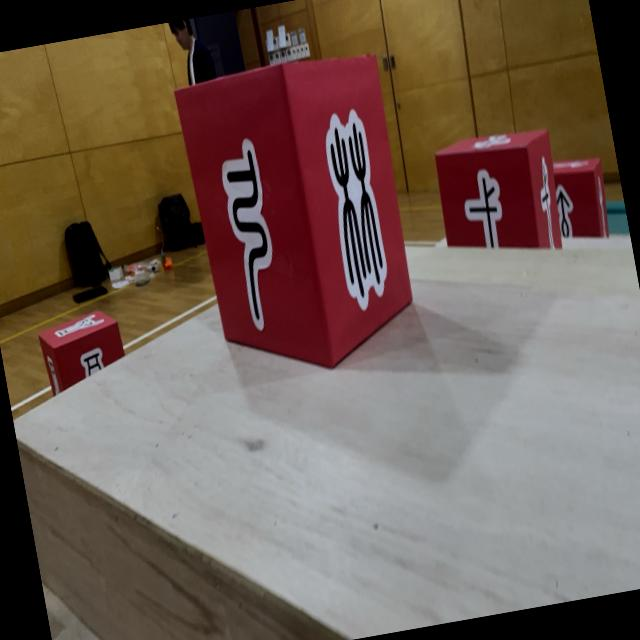12: (552, 181, 579, 240)
2: (313, 104, 396, 314)
4: (216, 136, 288, 336)
8: (52, 310, 105, 340), (77, 346, 107, 378), (46, 354, 61, 394)
9: (456, 165, 511, 252), (532, 153, 561, 250), (473, 130, 511, 150)
fighter: (171, 44, 429, 388), (428, 124, 570, 270), (36, 305, 130, 399), (548, 152, 615, 246)
